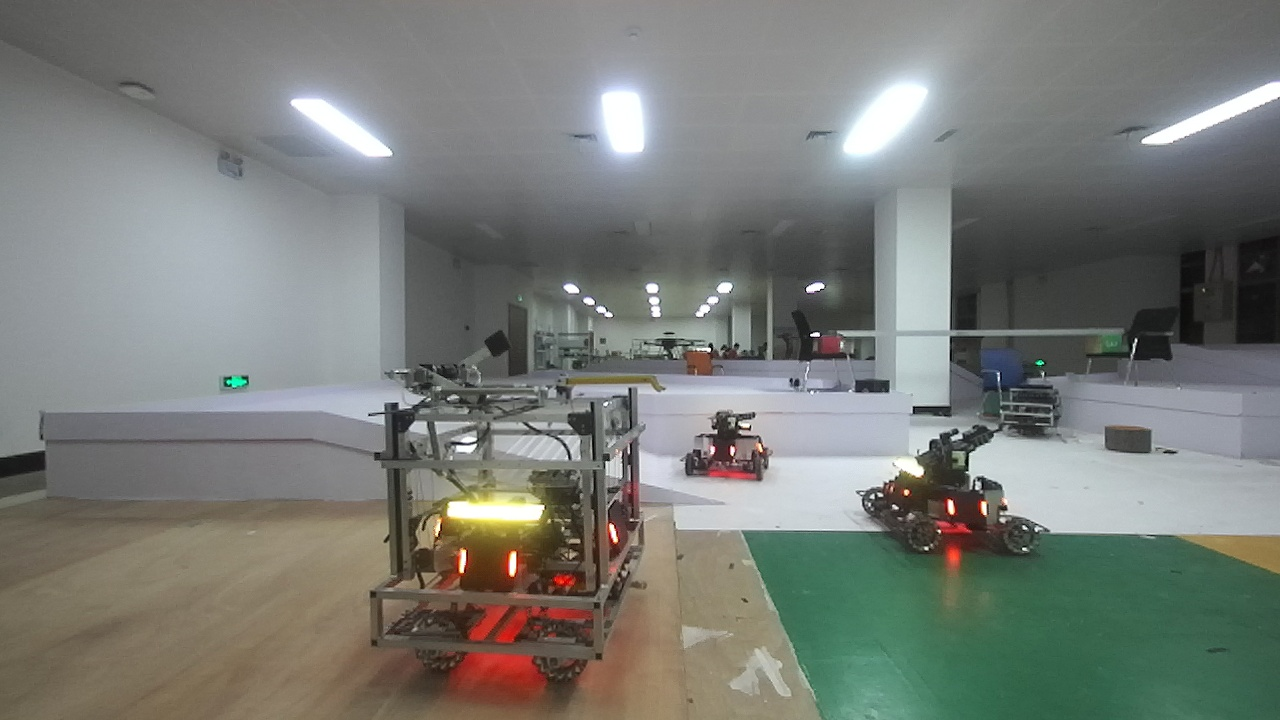car: (365, 369, 650, 699), (852, 419, 1043, 564), (669, 392, 786, 492)
